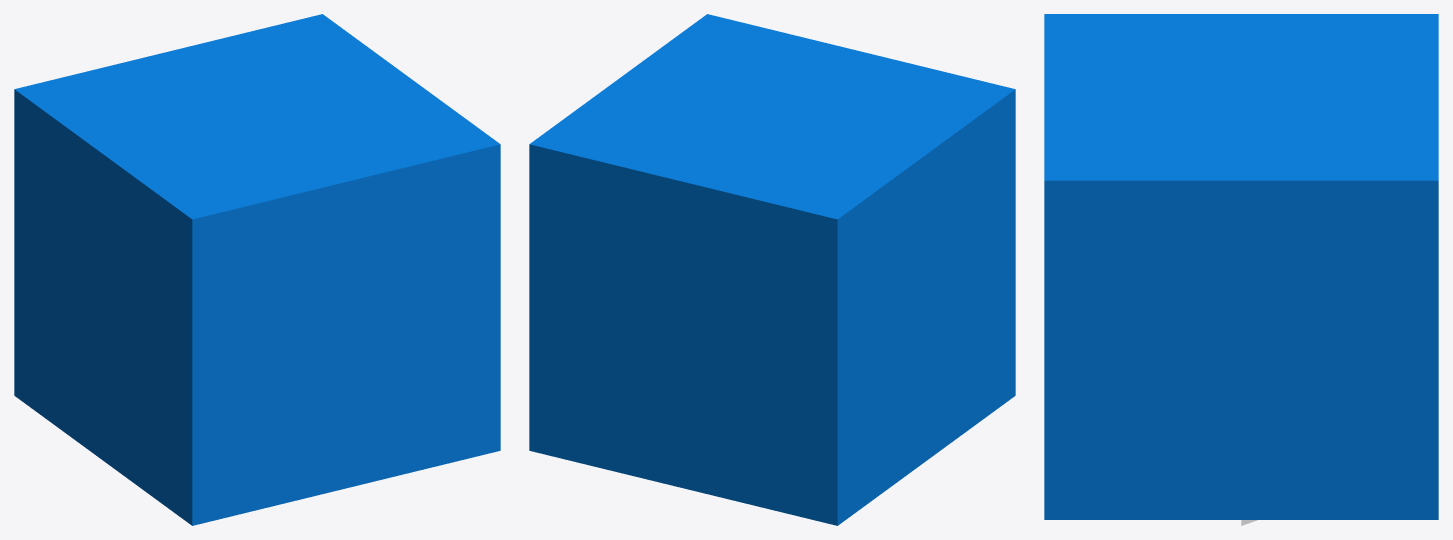
Rendered from gravity.glb.
The picture shows the model from 3 angles, left to right: view 1: azimuth 30°, elevation 25°; view 2: azimuth 150°, elevation 25°; view 3: azimuth 270°, elevation 25°; orthographic projection. The views are drawn at different scales.
Parts seen in each view (by area): view 1: gravity; view 2: gravity; view 3: gravity.
Boxes of the visible parts, x1,y1,x2,y2 form: gravity: (14, 14, 500, 525); gravity: (529, 14, 1015, 525); gravity: (1044, 14, 1438, 525).
Bounding box in the file's own units: 1 × 1 × 1.
Materials: 2 (2 with a texture image).
